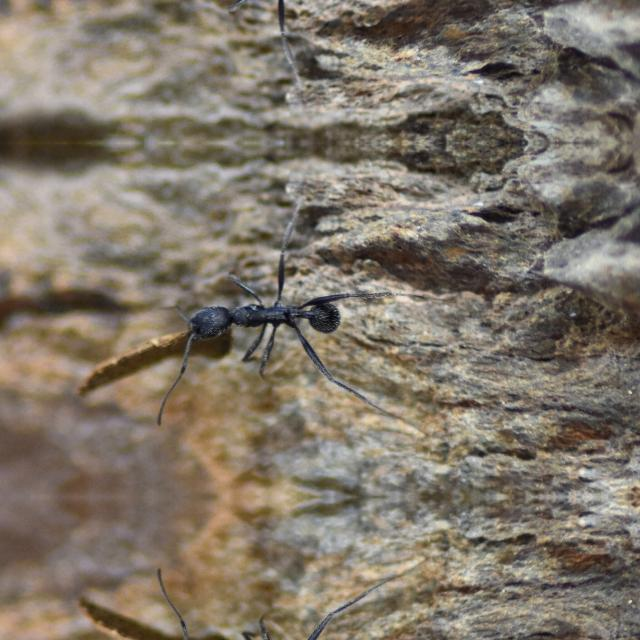Apheanogaster: (159, 272, 381, 362)
